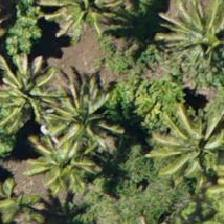coconut_tree: (17, 117, 107, 207), (157, 94, 223, 184), (163, 0, 223, 86)
